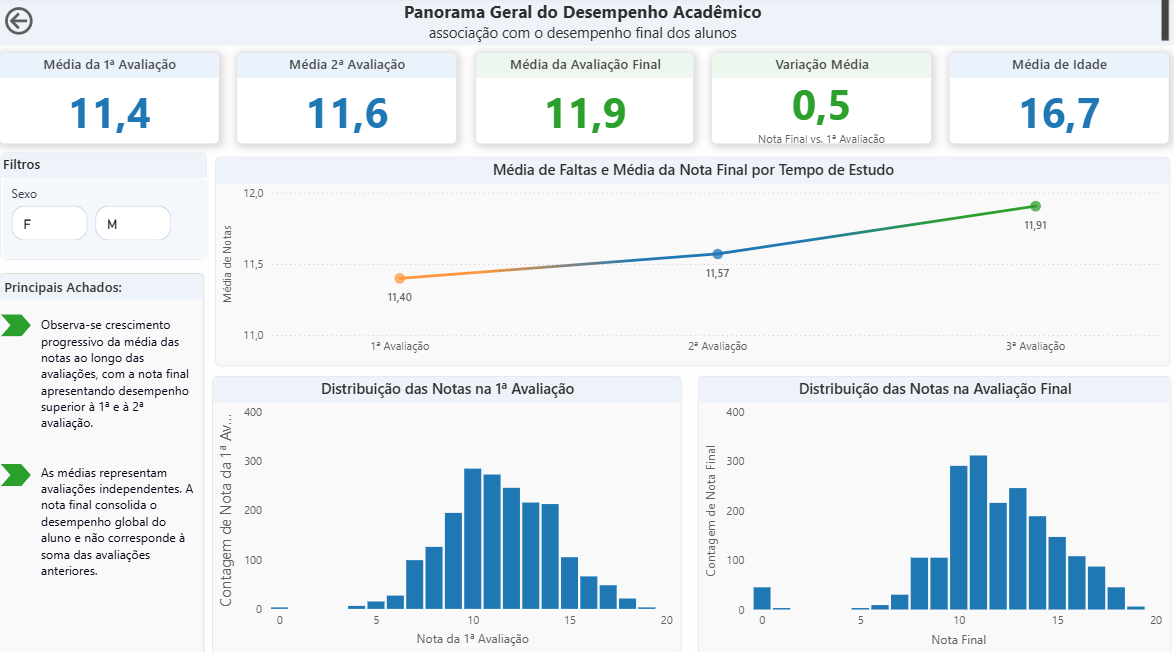

What the dashboard file says about the page in this screenshot:
{"tool":"powerbi","page":{"name":"Duplicata de Fatores Acadêmicos e Comportamentais","canvas":[1280,720],"ordinal":0},"visuals":[{"type":"textbox","box":[0,0,1279.3,55],"z":0},{"type":"shape","title":"Filtros","box":[1.2,171.6,224.8,117.1],"z":1000,"group":"g2"},{"type":"textbox","title":"Principais Achados:","box":[0,302.4,223.2,416.5],"z":1000},{"type":"lineChart","title":"Média de Faltas e Média da Nota Final por Tempo de Estudo","fields":{"Category":["educacao_analise.Etapa Avaliativa"],"Y":["Avg(educacao_analise.Notas)"]},"box":[235,176.7,1040,228.3],"z":2000},{"type":"actionButton","box":[1.7,8.3,100,40],"z":3000},{"type":"card","title":"Média 2ª Avaliação","fields":{"Values":["educacao_analise.Média 2ª Avaliação"]},"box":[259.2,63.3,240,100],"z":4000},{"type":"card","title":"Média de Idade","fields":{"Values":["educacao_analise.Média de Idade dos Alunos"]},"box":[1035,63.3,240,100],"z":5000},{"type":"card","title":"Média da 1ª Avaliação","fields":{"Values":["educacao_analise.Média 1ª Avaliação"]},"box":[0,63.3,240,100],"z":6000},{"type":"shape","box":[2.2,347.8,33.3,24.4],"z":7000},{"type":"card","title":"Variação Média","fields":{"Values":["educacao_analise.Evolução Média"]},"box":[775.8,63.3,240,100],"z":8000},{"type":"clusteredColumnChart","title":"Distribuição das Notas na 1ª Avaliação","fields":{"Y":["CountNonNull(educacao_analise.Nota da 1ª Avaliação)"],"Category":["educacao_analise.Nota da 1ª Avaliação"]},"box":[232.7,415.1,511.3,302.4],"z":9000},{"type":"clusteredColumnChart","title":"Distribuição das Notas na Avaliação Final","fields":{"Y":["CountNonNull(educacao_analise.Nota Final)"],"Category":["educacao_analise.Nota Final"]},"box":[760.8,414.8,515.7,303.1],"z":10000},{"type":"card","title":"Média da Avaliação Final","fields":{"Values":["educacao_analise.Média Nota Final"]},"box":[518.3,63.3,238.3,100],"z":11000},{"type":"group","id":"g1","title":"Grupo 3","box":[1.2,171.6,224.8,117.1],"z":12000},{"type":"advancedSlicerVisual","fields":{"Values":["educacao_analise.Sexo"]},"box":[11.6,204.1,178.3,65],"z":12000,"group":"g2"},{"type":"shape","box":[2.2,511.1,33.3,24.4],"z":13000},{"type":"group","id":"g2","title":"Grupo 1","box":[1.2,171.6,224.8,117.1],"z":16000,"group":"g1"}]}

Visuals, with their boxes in screenshot pixels (x1, y1, x2, y2), scaled from the page's 1280x720 canvas onto the 1174x652 screenshot:
textbox: l=0, t=0, r=1173, b=50
"Filtros" shape: l=1, t=155, r=207, b=261
"Principais Achados:" textbox: l=0, t=274, r=205, b=651
"Média de Faltas e Média da Nota Final por Tempo de Estudo" lineChart: l=216, t=160, r=1169, b=367
actionButton: l=2, t=8, r=93, b=44
"Média 2ª Avaliação" card: l=238, t=57, r=458, b=148
"Média de Idade" card: l=949, t=57, r=1169, b=148
"Média da 1ª Avaliação" card: l=0, t=57, r=220, b=148
shape: l=2, t=315, r=33, b=337
"Variação Média" card: l=712, t=57, r=932, b=148
"Distribuição das Notas na 1ª Avaliação" clusteredColumnChart: l=213, t=376, r=682, b=650
"Distribuição das Notas na Avaliação Final" clusteredColumnChart: l=698, t=376, r=1171, b=650
"Média da Avaliação Final" card: l=475, t=57, r=694, b=148
"Grupo 3" group: l=1, t=155, r=207, b=261
advancedSlicerVisual - educacao_analise.Sexo: l=11, t=185, r=174, b=244
shape: l=2, t=463, r=33, b=485
"Grupo 1" group: l=1, t=155, r=207, b=261
